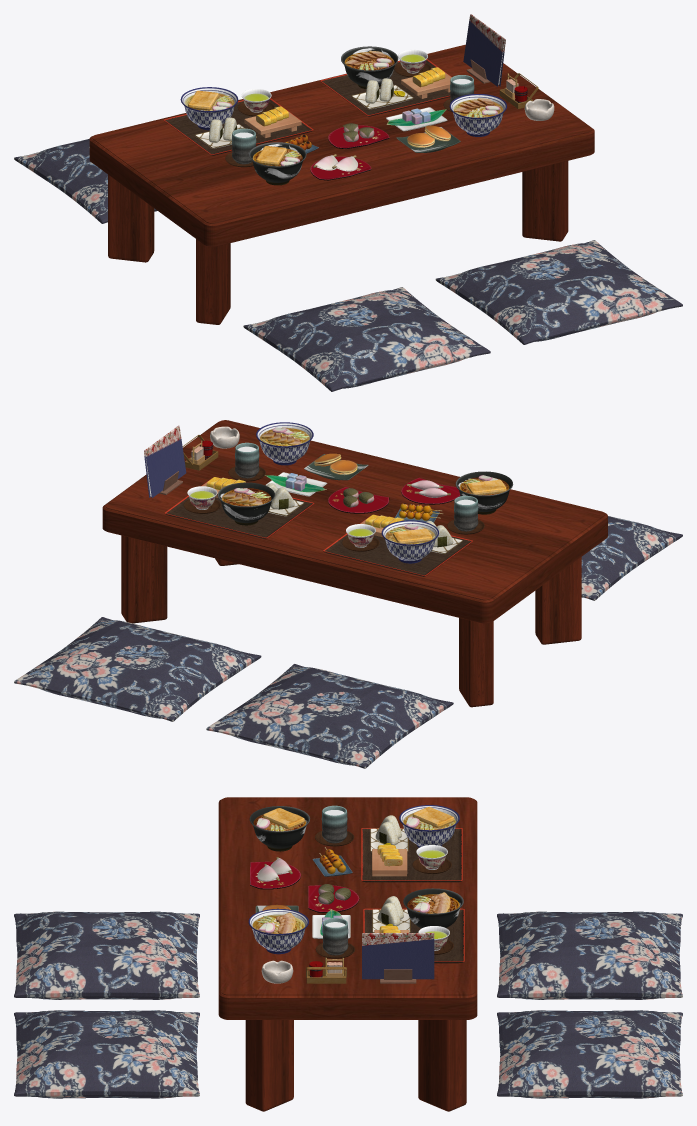
File: Food and Table.fbx
3 renders of one model, top to bottom at view 1: azimuth 30°, elevation 25°; view 2: azimuth 150°, elevation 25°; view 3: azimuth 270°, elevation 25°, orthographic. The views are drawn at different scales.
Visible parts, largest first — view 1: TableZasiki.Shape, Cushion.Shape, Cushion_dup_2.Shape, Cushion_dup_3.Shape, Menu.Shape, KitsuneSoba.Shape, KamoUdon.Shape, Tray_dup_2.Shape, KamoSoba.Shape, KitsuneUdon.Shape, Tray.Shape, HanabiraMochi.Shape (+9 smaller); view 2: TableZasiki.Shape, Cushion_dup_3.Shape, Cushion_dup_4.Shape, Cushion.Shape, Menu.Shape, Tray.Shape, Tray_dup_2.Shape, KitsuneUdon.Shape, KamoSoba.Shape, KamoUdon.Shape, KitsuneSoba.Shape, SakuraMochi.Shape (+11 smaller); view 3: TableZasiki.Shape, Cushion.Shape, Cushion_dup_3.Shape, Cushion_dup_2.Shape, Cushion_dup_4.Shape, Menu.Shape, Tray.Shape, KamoUdon.Shape, KitsuneSoba.Shape, KitsuneUdon.Shape, KamoSoba.Shape, HanabiraMochi.Shape (+12 smaller).
Part boxes in pixels (x1=…): TableZasiki.Shape: x1=89, y1=44, x2=594, y2=324; Cushion.Shape: x1=243, y1=287, x2=490, y2=391; Cushion_dup_2.Shape: x1=435, y1=240, x2=682, y2=344; Cushion_dup_3.Shape: x1=14, y1=139, x2=157, y2=223; Menu.Shape: x1=463, y1=14, x2=505, y2=86; KitsuneSoba.Shape: x1=249, y1=142, x2=306, y2=185; KamoUdon.Shape: x1=449, y1=94, x2=506, y2=136; Tray_dup_2.Shape: x1=320, y1=59, x2=451, y2=116; KamoSoba.Shape: x1=341, y1=46, x2=398, y2=88; KitsuneUdon.Shape: x1=180, y1=87, x2=238, y2=130; Tray.Shape: x1=164, y1=98, x2=313, y2=155; HanabiraMochi.Shape: x1=310, y1=154, x2=371, y2=180; TableZasiki.Shape: x1=102, y1=420, x2=607, y2=707; Cushion_dup_3.Shape: x1=206, y1=664, x2=453, y2=768; Cushion_dup_4.Shape: x1=14, y1=617, x2=261, y2=721; Cushion.Shape: x1=581, y1=516, x2=682, y2=600; Menu.Shape: x1=144, y1=425, x2=186, y2=497; Tray.Shape: x1=323, y1=516, x2=472, y2=576; Tray_dup_2.Shape: x1=164, y1=478, x2=314, y2=539; KitsuneUdon.Shape: x1=381, y1=520, x2=438, y2=563; KamoSoba.Shape: x1=217, y1=482, x2=275, y2=525; KamoUdon.Shape: x1=256, y1=422, x2=313, y2=465; KitsuneSoba.Shape: x1=455, y1=471, x2=513, y2=514; SakuraMochi.Shape: x1=328, y1=487, x2=389, y2=513; TableZasiki.Shape: x1=218, y1=797, x2=477, y2=1111; Cushion.Shape: x1=14, y1=911, x2=199, y2=999; Cushion_dup_3.Shape: x1=497, y1=911, x2=682, y2=999; Cushion_dup_2.Shape: x1=14, y1=1010, x2=199, y2=1098; Cushion_dup_4.Shape: x1=497, y1=1010, x2=682, y2=1098; Menu.Shape: x1=362, y1=933, x2=434, y2=983; Tray.Shape: x1=361, y1=828, x2=462, y2=882; KamoUdon.Shape: x1=248, y1=908, x2=308, y2=954; KitsuneSoba.Shape: x1=249, y1=806, x2=310, y2=851; KitsuneUdon.Shape: x1=399, y1=805, x2=459, y2=847; KamoSoba.Shape: x1=403, y1=888, x2=463, y2=928; HanabiraMochi.Shape: x1=250, y1=857, x2=300, y2=889.
Size of the model in its own units: 138 by 57.82 by 196.
37 materials, 36 textured.
